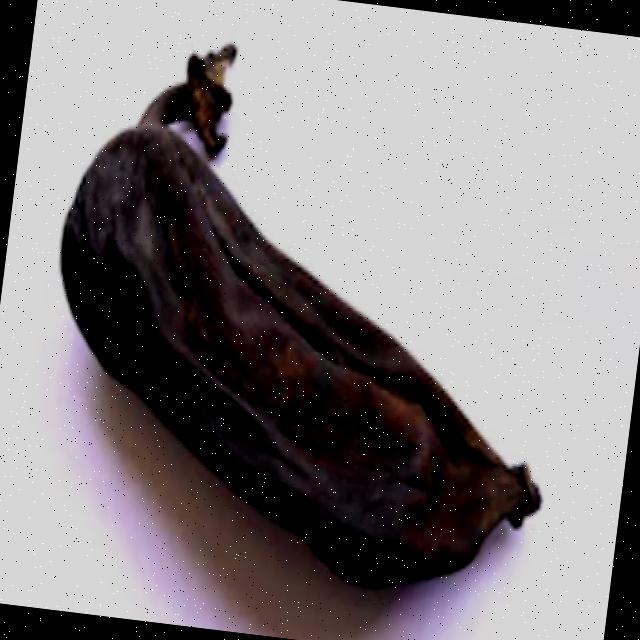Rotten: (0, 16, 605, 628)
